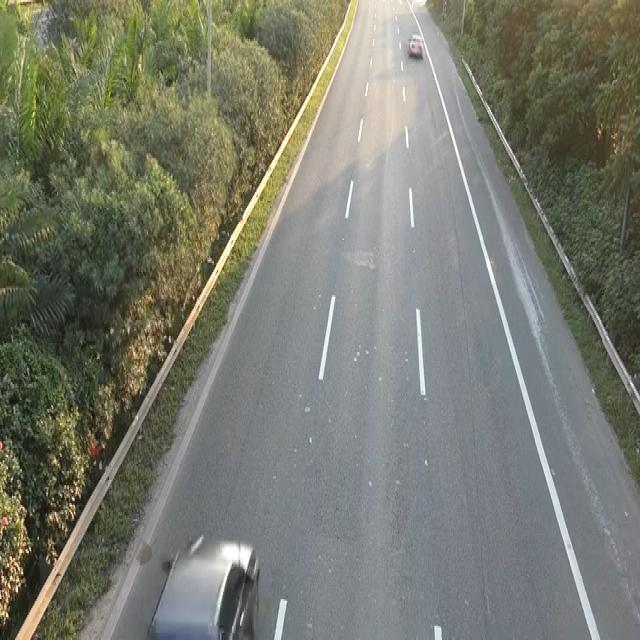bus: (145, 528, 262, 636), (407, 30, 424, 59)
